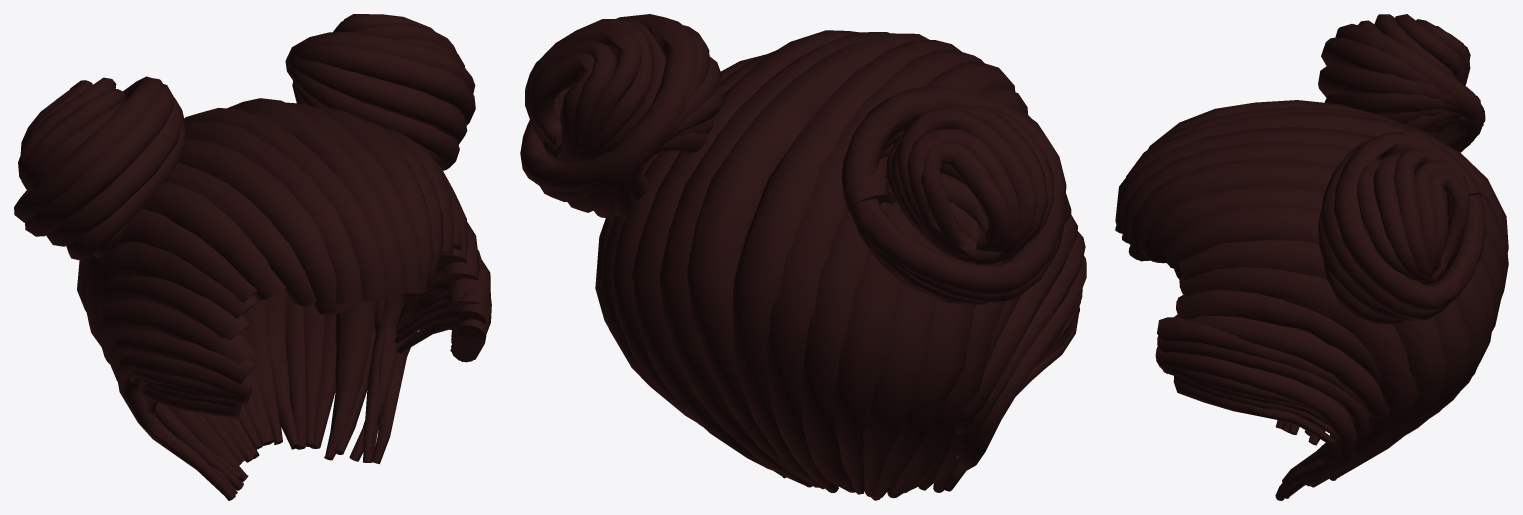
The model's file is hair-6-11bd2720.glb.
The picture shows the model from 3 angles, left to right: view 1: azimuth 30°, elevation 25°; view 2: azimuth 150°, elevation 25°; view 3: azimuth 270°, elevation 25°; orthographic projection. The views are drawn at different scales.
Visible parts, largest first — view 1: hair_6.001; view 2: hair_6.001; view 3: hair_6.001.
Part boxes in pixels (left/top/right/bottom): hair_6.001: left=14, top=14, right=491, bottom=500; hair_6.001: left=520, top=14, right=1086, bottom=500; hair_6.001: left=1115, top=14, right=1508, bottom=500.
Bounding box in the file's own units: 2.42 × 2.03 × 1.9.
